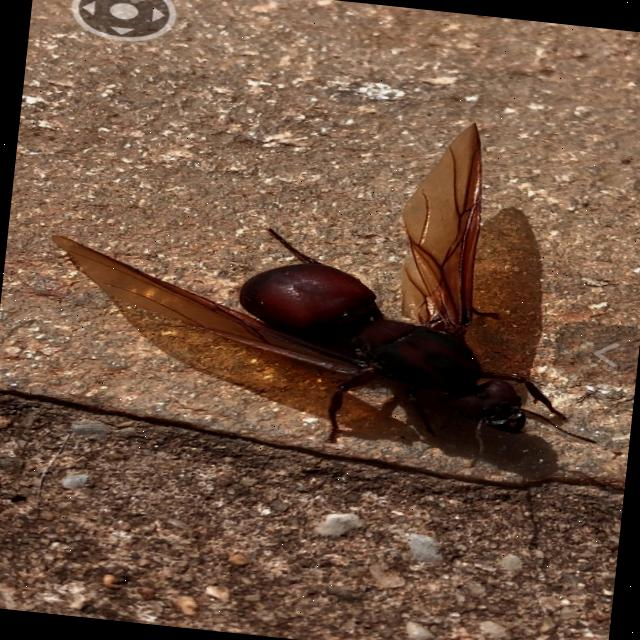Alive-Female-Alate: (30, 78, 629, 480)
